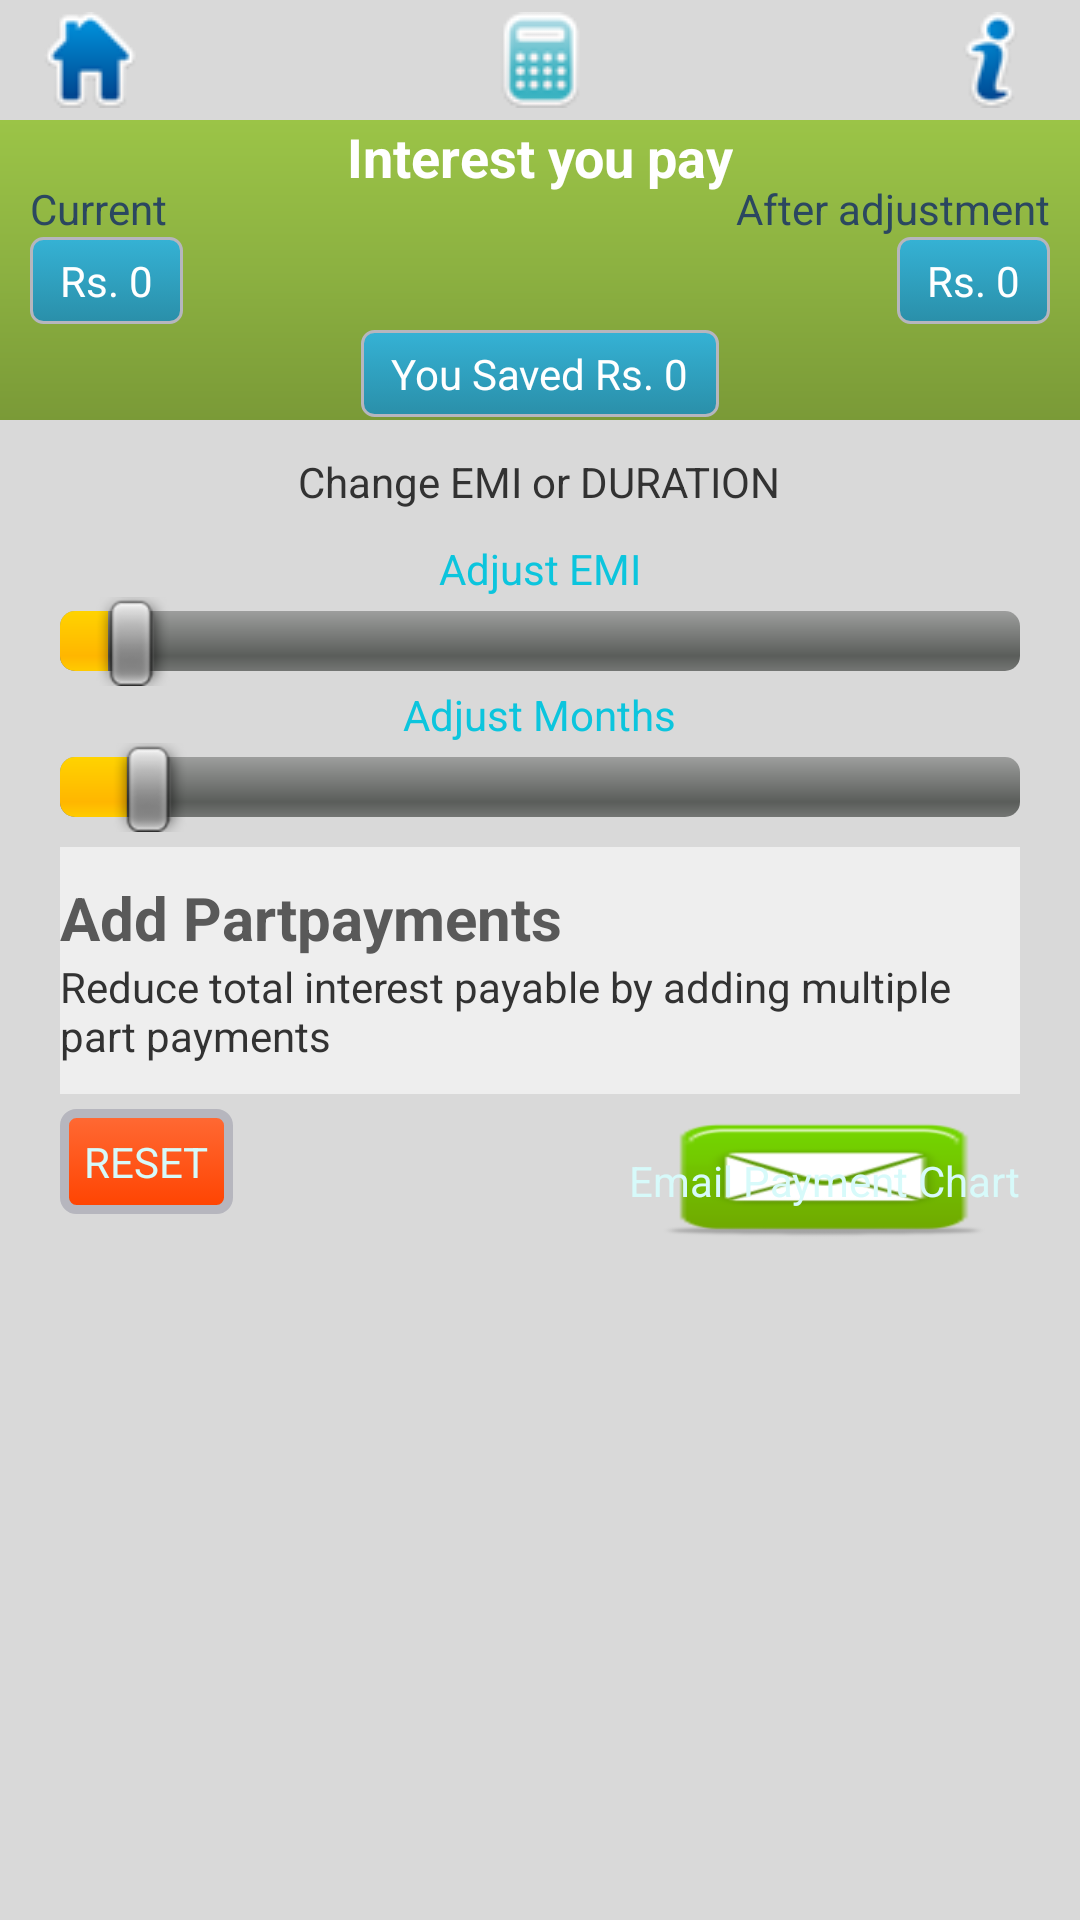

Icons on this 1080w x 1920h Android screen, each with its box as (x1, y1, x2, y2):
calculator: (505, 14, 576, 104)
home: (48, 15, 132, 104)
info: (968, 14, 1014, 104)
